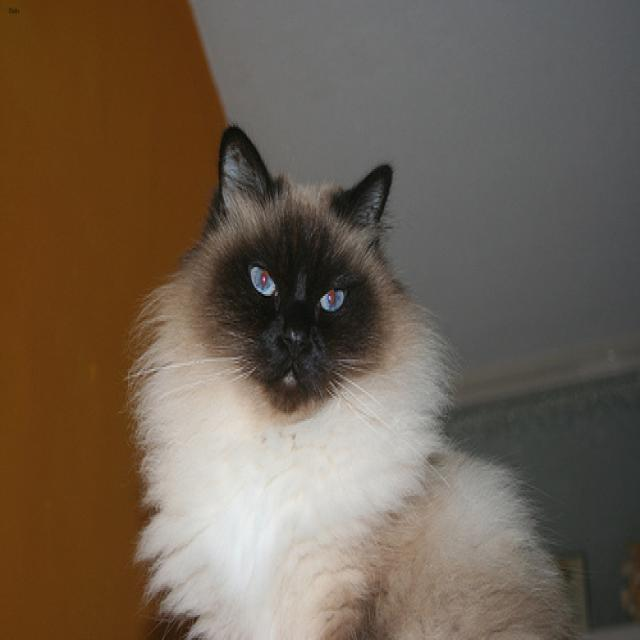Birman: (185, 117, 410, 484)
